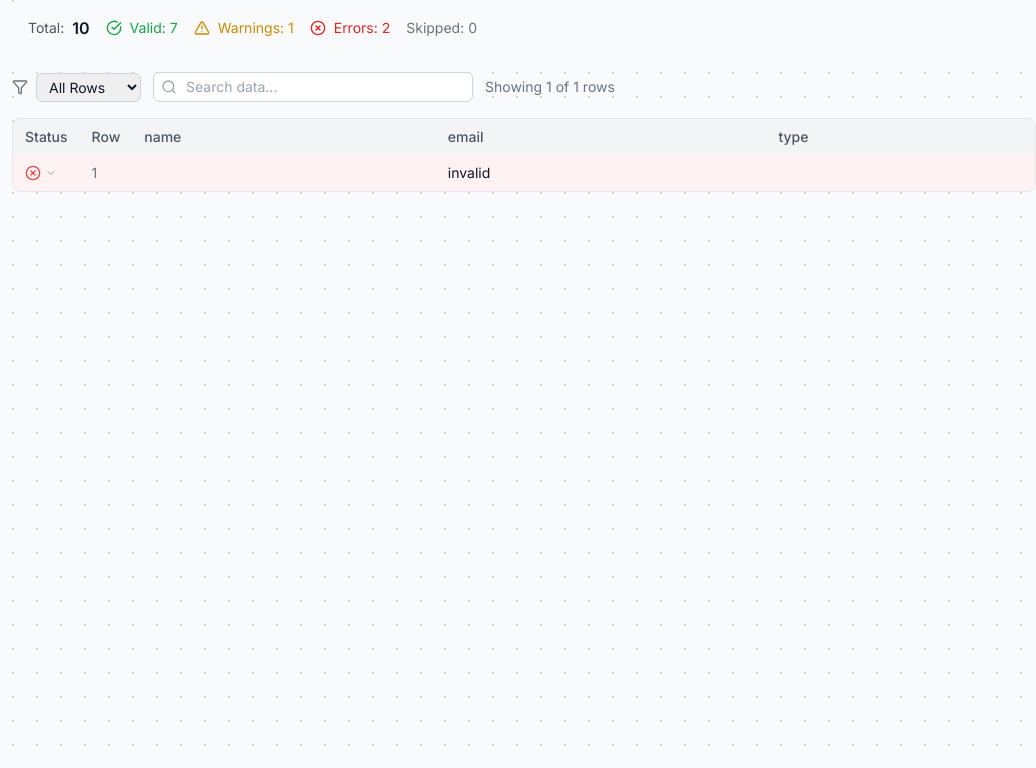
Scenario: ImportPreview › Row Expansion › should display multiple errors in expanded row
Click the text "1". click: point(524, 173)
box: [13,155,1035,191]
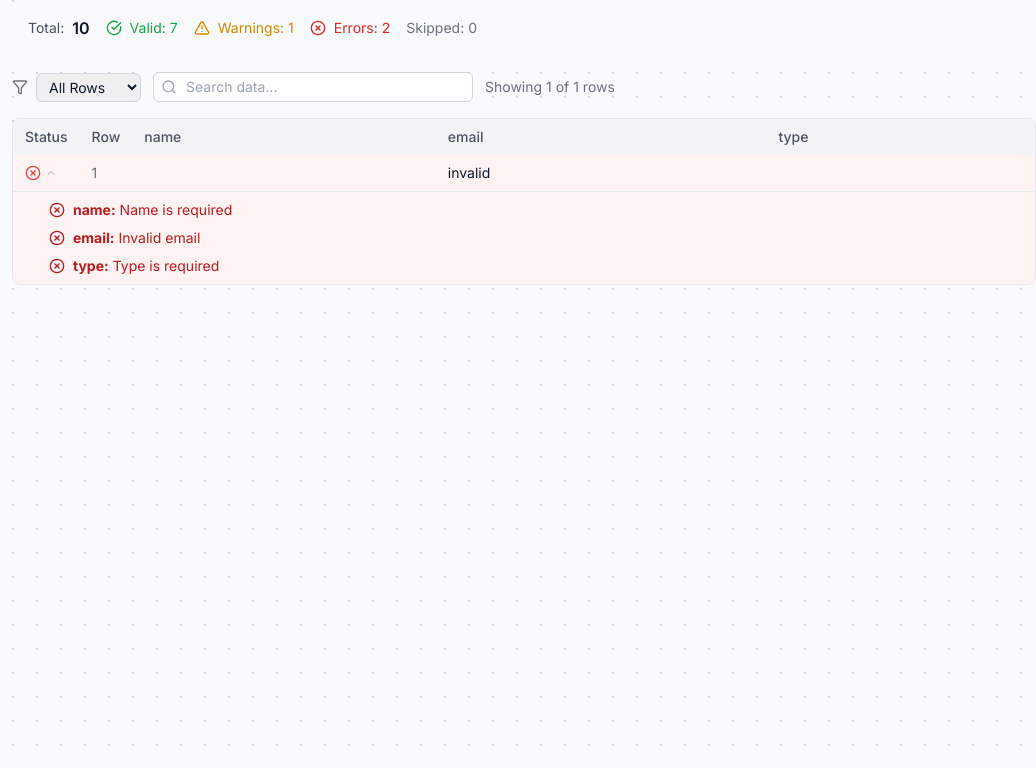
Expected: the text "name: Name is required" is shown, [73,200,232,220]
Expected: the text "email: Invalid email" is shown, [73,228,200,248]
Expected: the text "type: Type is required" is shown, [73,256,219,276]
